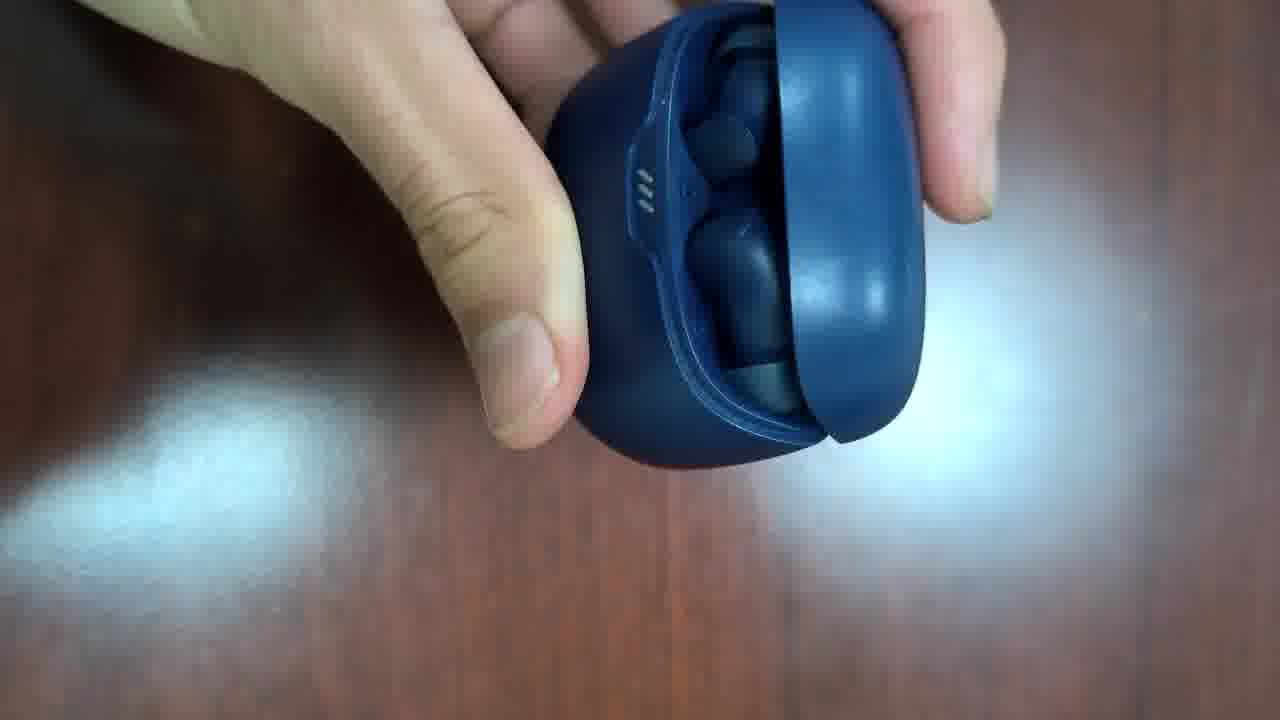Case: (545, 0, 924, 466)
Earbud: (687, 208, 804, 414), (687, 209, 802, 412), (686, 24, 778, 184), (686, 24, 777, 184)
